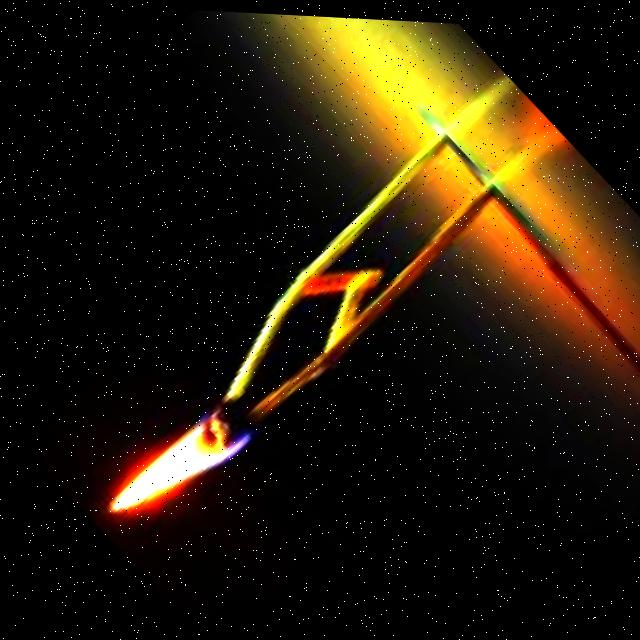Fire: (94, 394, 250, 545)
